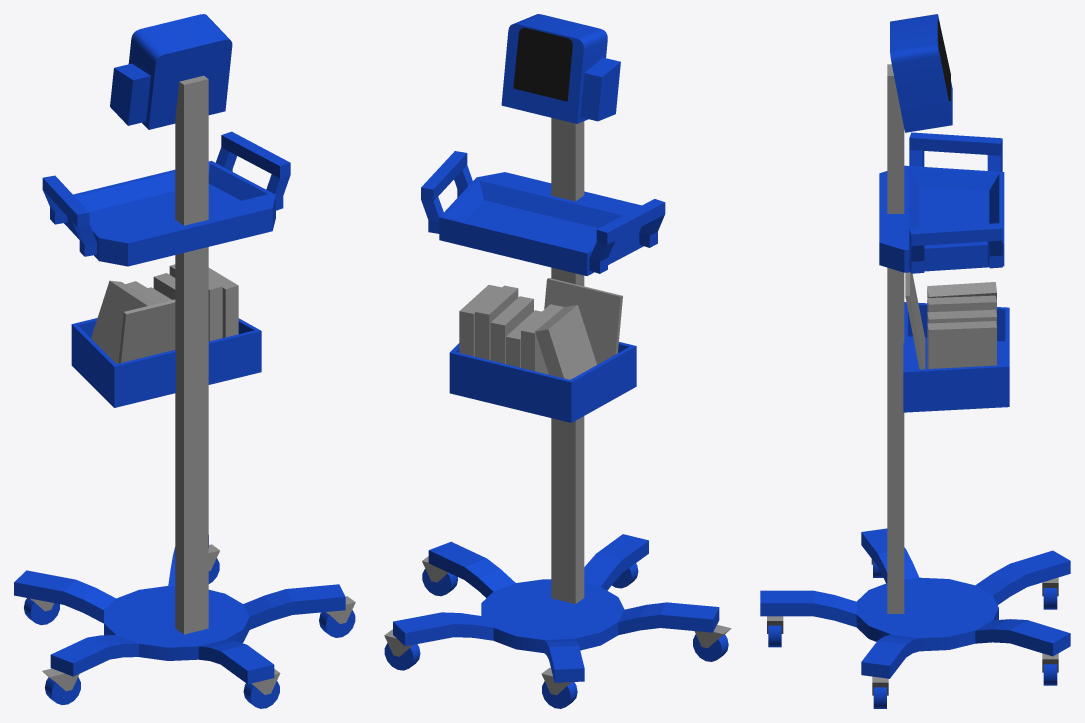
File: Medical Apparatus.fbx
3 views of the same model, side by side, from view 1: azimuth 30°, elevation 25°; view 2: azimuth 150°, elevation 25°; view 3: azimuth 270°, elevation 25° (orthographic). The views are drawn at different scales.
Parts seen in each view (by area): view 1: Box002, Cylinder001, Box004, Box005, Box003, Box021, Box020, Box007, Box008, Box006, Box015, Box016 (+4 smaller); view 2: Cylinder001, Box004, Box002, Box003, Box005, Box014, Box021, Box020, Box006, Box008, Box007, Box016 (+8 smaller); view 3: Cylinder001, Box004, Box002, Box003, Box005, Box015, Box007, Box006, Box021, Box019, Box020, Box016.
Part boxes in pixels (x1,y1,x2,y2): Box002: (175, 75, 208, 634); Cylinder001: (14, 535, 345, 684); Box004: (64, 161, 275, 266); Box005: (128, 14, 232, 129); Box003: (71, 318, 261, 407); Box021: (118, 299, 175, 363); Box020: (91, 280, 154, 363); Box007: (215, 131, 290, 210); Box008: (110, 63, 150, 125); Box006: (42, 175, 96, 256); Box015: (208, 268, 238, 337); Box016: (169, 264, 222, 341); Cylinder001: (393, 534, 719, 682); Box004: (439, 172, 643, 275); Box002: (551, 118, 584, 603); Box003: (449, 342, 636, 422); Box005: (501, 14, 607, 123); Box014: (513, 28, 572, 101); Box021: (544, 278, 622, 364); Box020: (535, 305, 596, 379); Box006: (589, 199, 665, 273); Box008: (580, 57, 620, 121); Box007: (421, 151, 472, 233); Box016: (475, 285, 518, 360); Cylinder001: (760, 528, 1070, 678); Box004: (879, 165, 1004, 272); Box002: (887, 64, 904, 613); Box003: (903, 302, 1009, 412); Box005: (890, 14, 952, 132); Box015: (927, 321, 996, 368); Box007: (909, 223, 1002, 273); Box006: (909, 132, 1002, 171); Box021: (905, 272, 925, 369); Box019: (927, 295, 996, 314); Box020: (927, 282, 996, 300); Box016: (927, 310, 996, 325).
Bounding box in the file's own units: 20.62 × 40.26 × 18.49.
